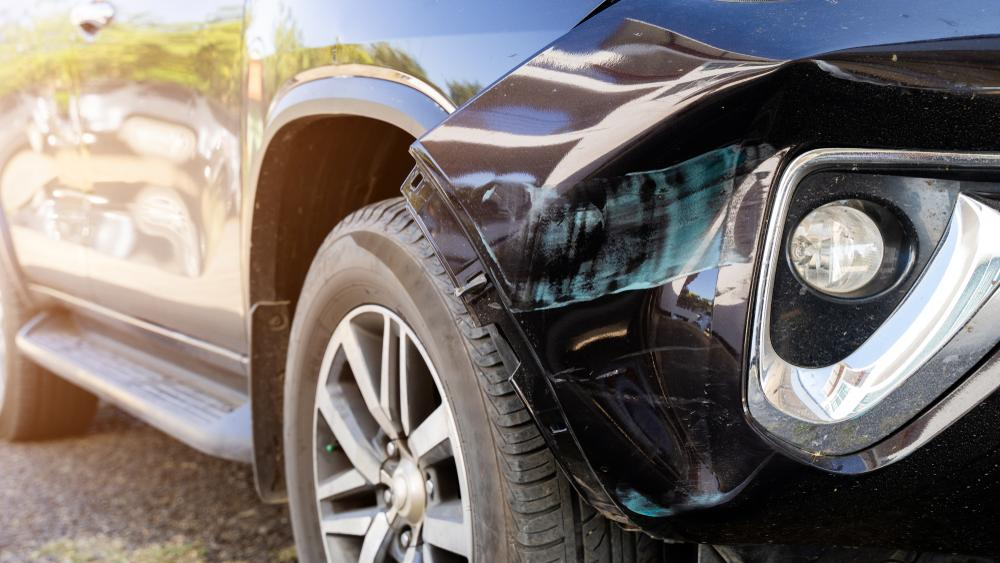dent: (554, 298, 773, 505)
scratch: (482, 139, 775, 310)
